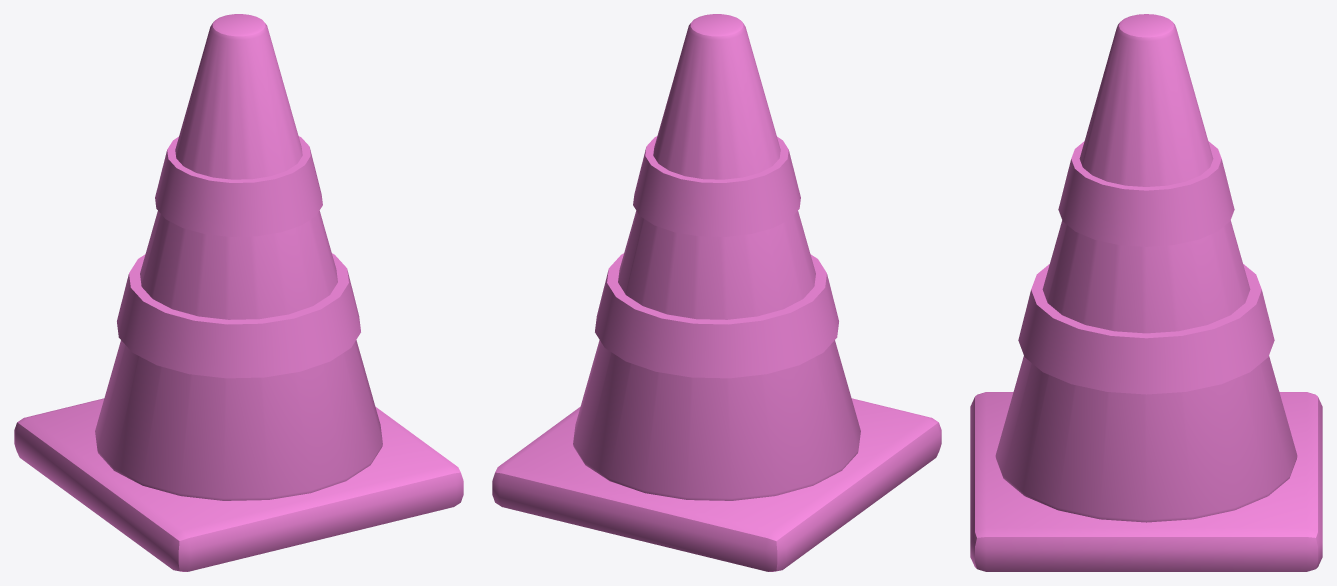
Rendered from Site_Cone.fbx.
3 views of the same model, side by side, from view 1: azimuth 30°, elevation 25°; view 2: azimuth 150°, elevation 25°; view 3: azimuth 270°, elevation 25° (orthographic). The views are drawn at different scales.
Visible parts, largest first — view 1: Cone; view 2: Cone; view 3: Cone.
Part boxes in pixels (x1,y1,x2,y2): Cone: [14, 14, 463, 571]; Cone: [492, 14, 941, 571]; Cone: [970, 14, 1322, 571].
Size of the model in its own units: 2.2 by 3.3 by 2.2.
1 material, 1 textured.
